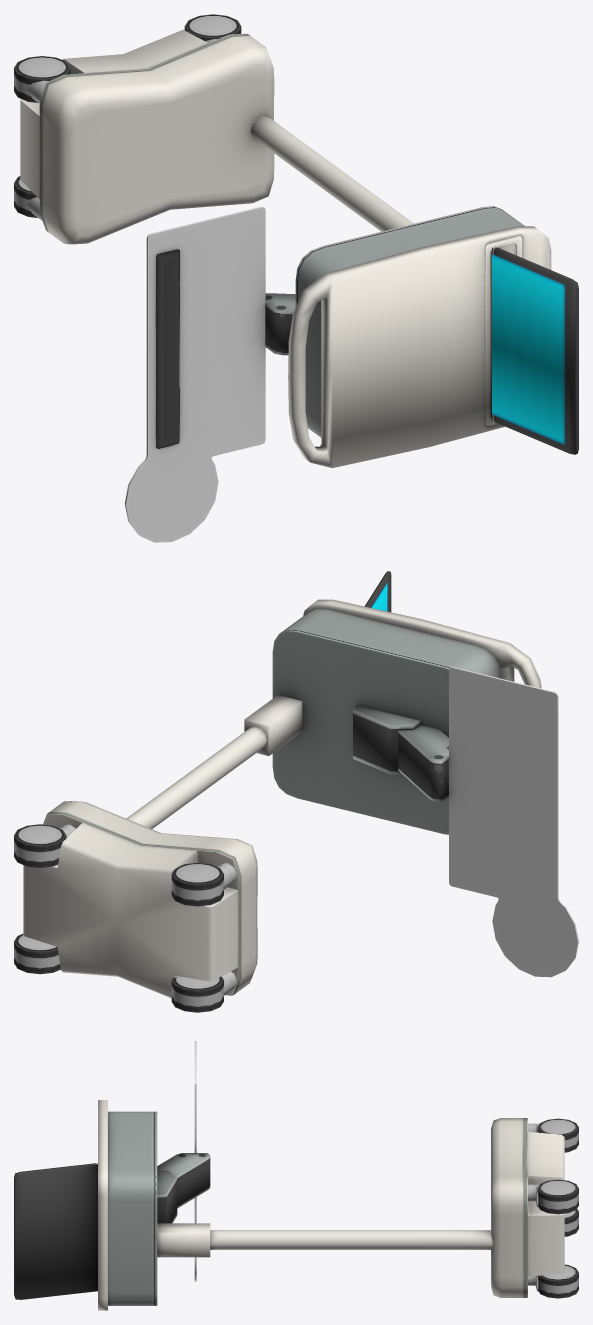
Rendered from Cart_BMW.obj.
3 renders of one model, top to bottom at view 1: azimuth 30°, elevation 25°; view 2: azimuth 150°, elevation 25°; view 3: azimuth 270°, elevation 25°, orthographic. The views are drawn at different scales.
Visible parts, largest first — view 1: Cart_BMW, Wheels_Cart_BMW.001; view 2: Cart_BMW, Wheels_Cart_BMW.001; view 3: Cart_BMW, Wheels_Cart_BMW.001.
Boxes of the visible parts, bbox=[...] form: Cart_BMW: bbox=[20, 30, 578, 542]; Wheels_Cart_BMW.001: bbox=[14, 14, 241, 220]; Cart_BMW: bbox=[23, 571, 578, 998]; Wheels_Cart_BMW.001: bbox=[14, 824, 236, 1012]; Cart_BMW: bbox=[14, 1041, 564, 1310]; Wheels_Cart_BMW.001: bbox=[528, 1118, 578, 1298].
Size of the model in its own units: 0.7699 by 0.639 by 1.43.
2 materials, 2 textured.
